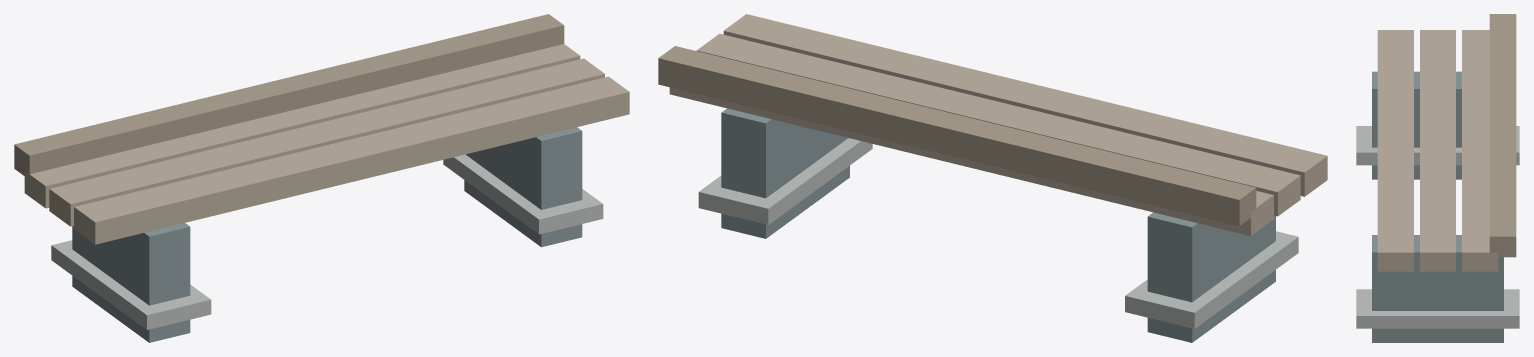
The model's file is campusBench.glb.
3 renders of one model, left to right at view 1: azimuth 30°, elevation 25°; view 2: azimuth 150°, elevation 25°; view 3: azimuth 270°, elevation 25°, orthographic. The views are drawn at different scales.
Parts seen in each view (by area): view 1: campusBench; view 2: campusBench; view 3: campusBench.
Boxes of the visible parts, left/top/right/bottom form: campusBench: left=14, top=14, right=629, bottom=342; campusBench: left=658, top=14, right=1327, bottom=342; campusBench: left=1356, top=14, right=1519, bottom=342.
Bounding box in the file's own units: 3 × 0.8 × 0.93.
